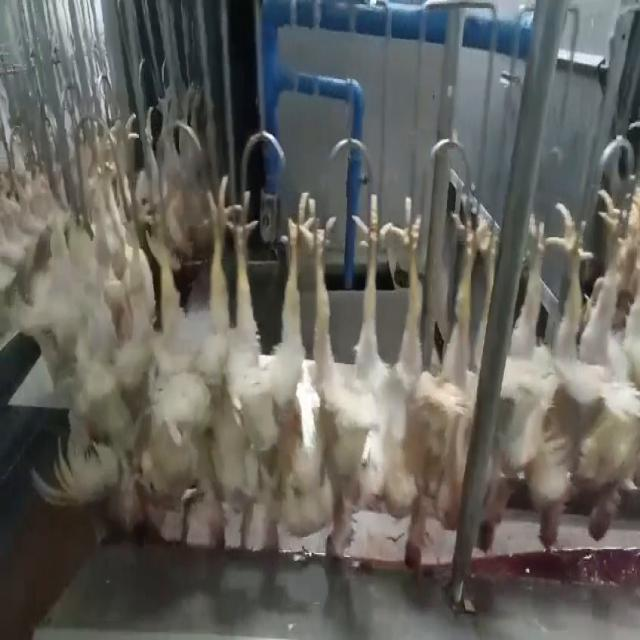chicken: (375, 191, 497, 581), (141, 168, 236, 550), (226, 183, 318, 562), (310, 174, 390, 564), (508, 188, 584, 555), (63, 175, 141, 523), (574, 179, 639, 540)
